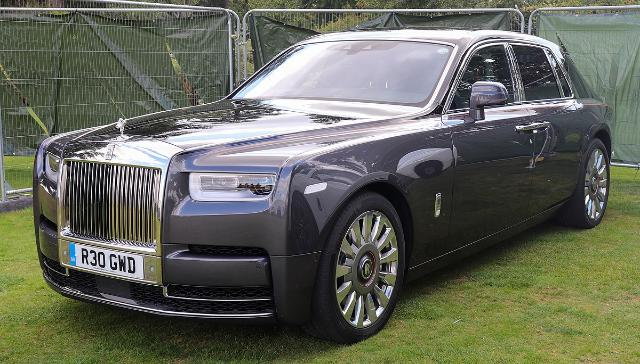rolls-royce: (32, 27, 614, 343)
